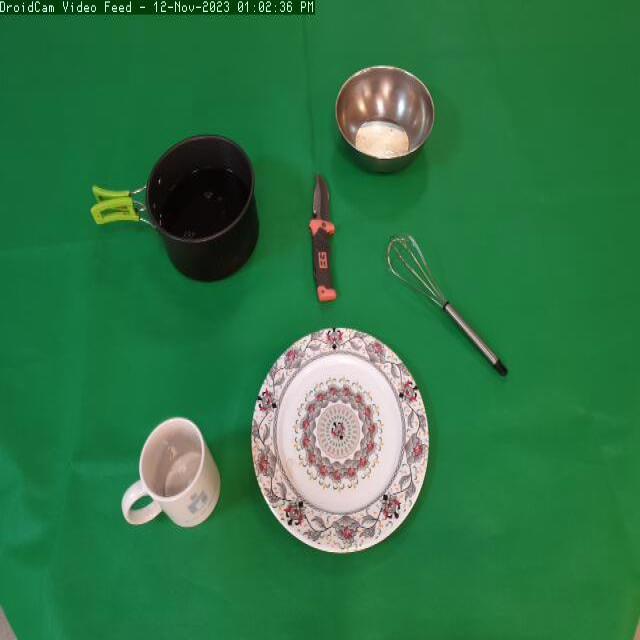bowl: (332, 60, 438, 178)
cup: (117, 413, 230, 542)
fullpot: (81, 128, 266, 292)
knife: (299, 166, 345, 308)
plate: (248, 318, 438, 567)
whisk: (385, 223, 516, 388)
